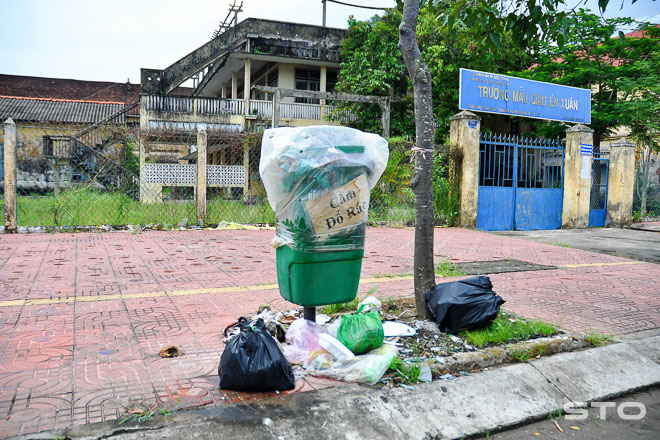plastic bag: (259, 124, 388, 246), (278, 317, 398, 382), (219, 315, 295, 389), (422, 277, 510, 332), (336, 304, 386, 355)
